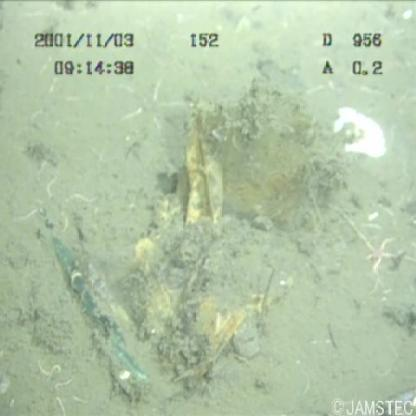Bio: (340, 218, 410, 286)
Rác: (33, 100, 329, 404)
